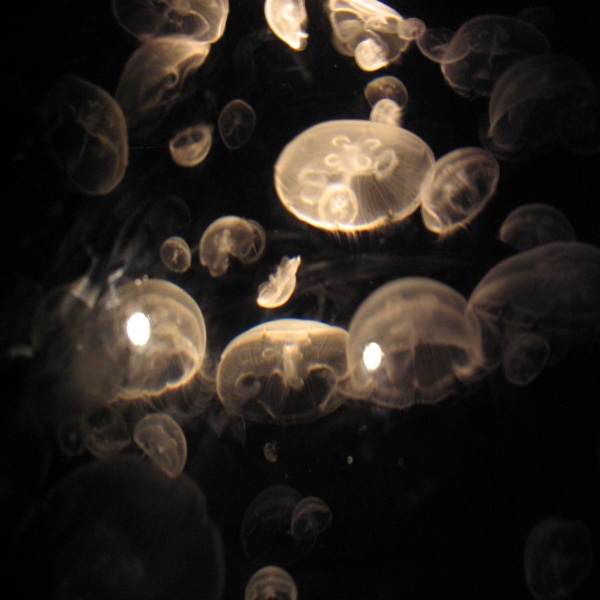Jellyfish: (0, 0, 599, 477), (192, 209, 264, 276), (289, 498, 332, 539), (246, 566, 297, 599)
